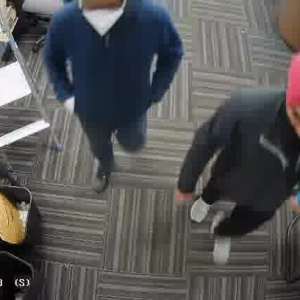person: (193, 64, 300, 254), (62, 0, 160, 185)
